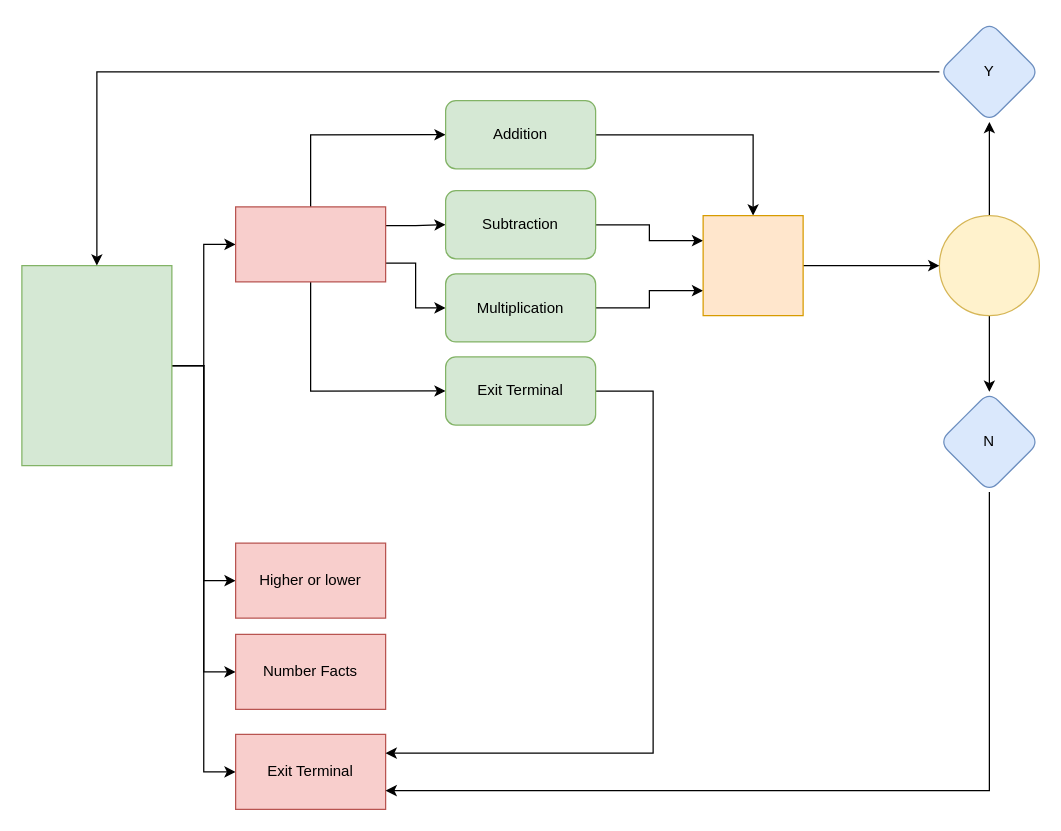
Some shapes in this 1061 by 831 pixel diagram are drawn without their labels. Here are the shapes that lost their labels. From the top down, the box of each, then its label:
(234, 206, 386, 282): Simple Maths
(702, 214, 803, 316): 5 Maths Question
(938, 214, 1039, 316): Play Again? Y / N
(21, 264, 172, 466): Main
